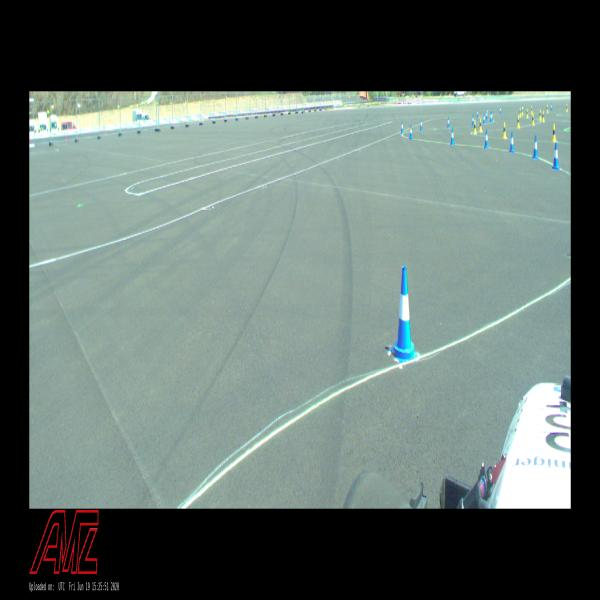blue_cone: (391, 267, 418, 362), (552, 142, 560, 169), (533, 135, 538, 158), (509, 132, 514, 152), (484, 129, 488, 148), (451, 127, 454, 144), (420, 118, 423, 130), (410, 124, 412, 139), (448, 117, 450, 128), (472, 115, 474, 126), (483, 113, 485, 124), (401, 122, 403, 132), (490, 112, 492, 122), (491, 111, 493, 121), (522, 104, 524, 112), (486, 110, 487, 120), (551, 103, 552, 111), (477, 109, 478, 117), (500, 106, 501, 113), (487, 108, 488, 115)
yellow_cone: (552, 124, 557, 141), (502, 123, 506, 138), (479, 118, 482, 132), (517, 116, 520, 127), (474, 120, 476, 134), (526, 109, 529, 117), (542, 111, 544, 122), (532, 114, 534, 124), (540, 110, 542, 120), (520, 108, 522, 117), (566, 104, 568, 111), (522, 108, 524, 115), (547, 105, 548, 113), (531, 106, 532, 114)
